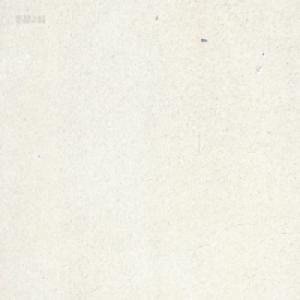Nail: (201, 37, 207, 43)
